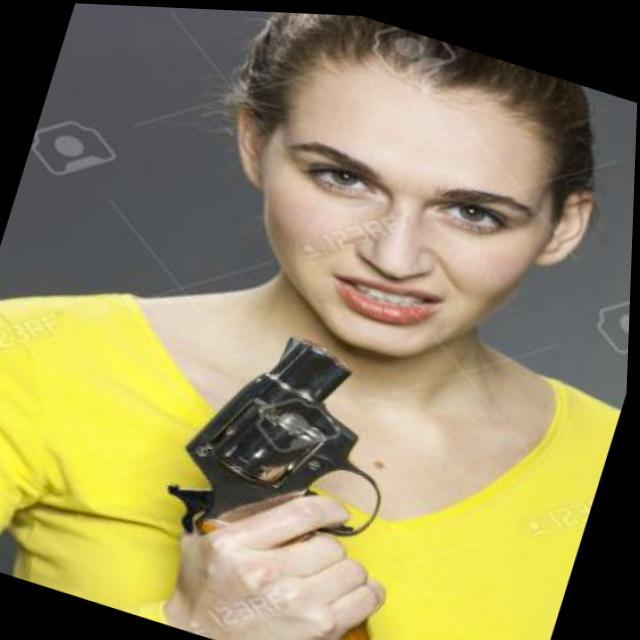weapon: (124, 293, 462, 640)
